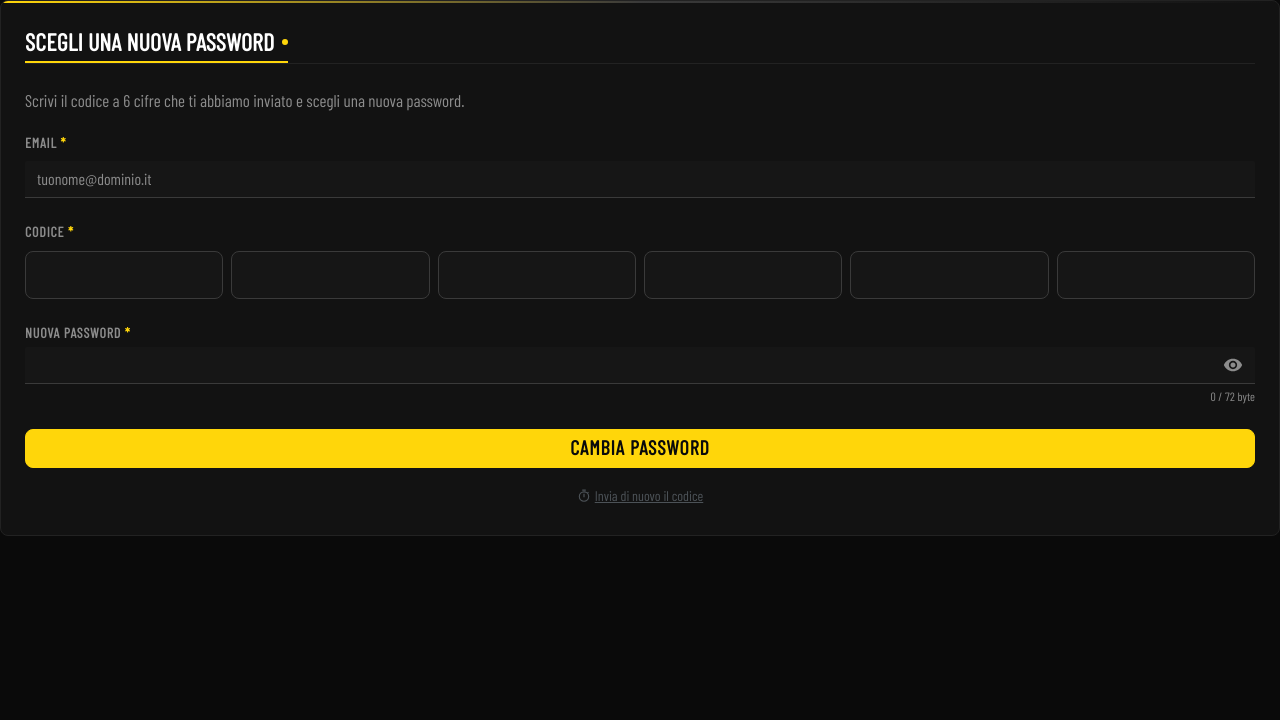
Test case: ResetPasswordPage › con i campi vuoti mostra i messaggi e non chiama il server
Click the button "Cambia password" at (640, 449), box [25, 429, 1255, 468]
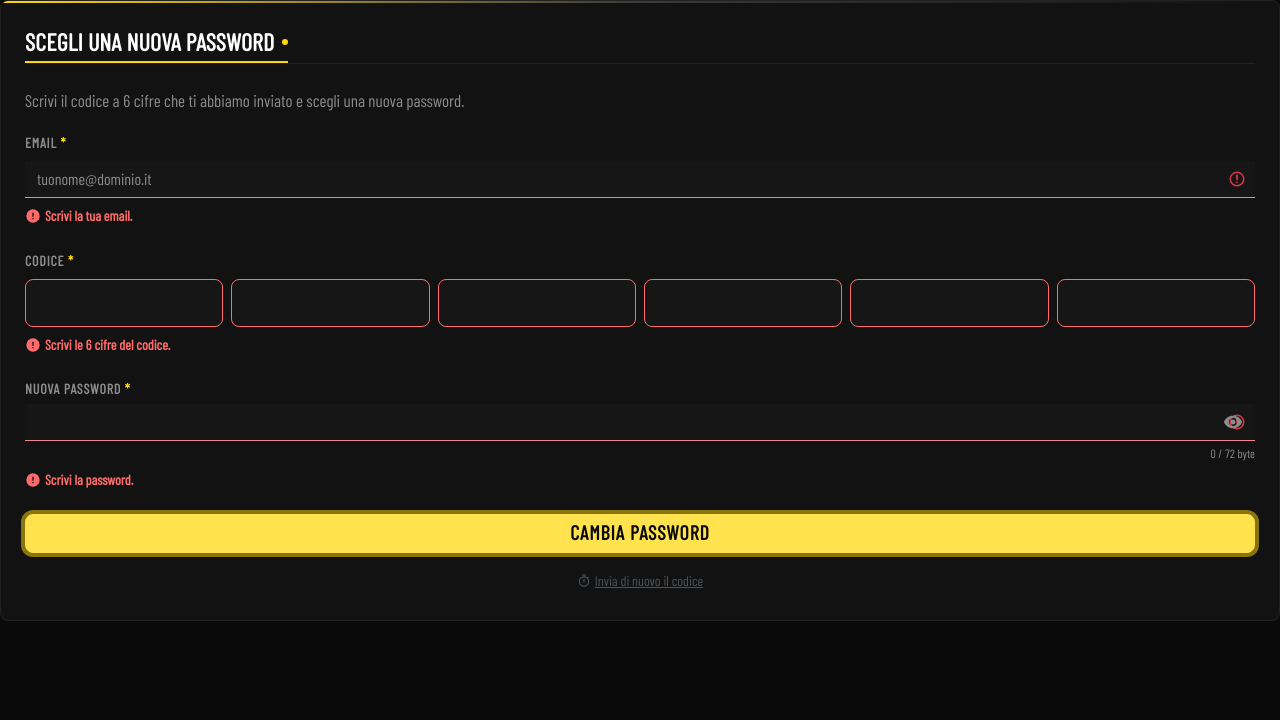
Expected: the text "Scrivi la tua email." is shown, [45, 206, 132, 227]
Expected: the text "Scrivi le 6 cifre del codice." is shown, [45, 335, 170, 355]
Expected: the text "Scrivi la password." is shown, [45, 470, 134, 490]
